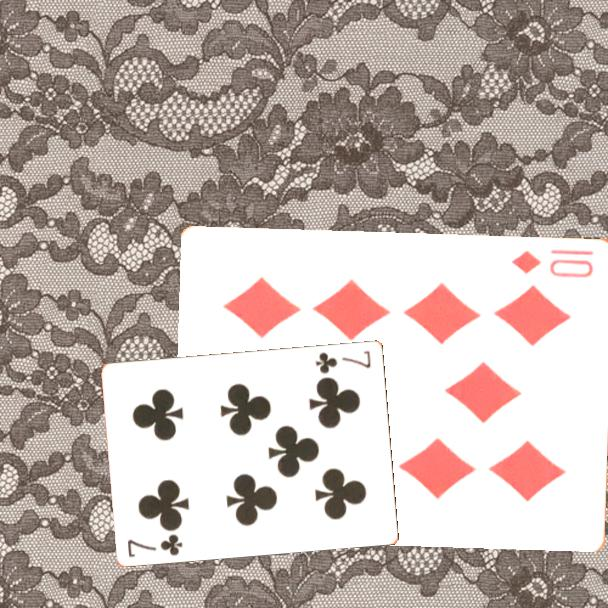c07: (124, 530, 186, 560), (312, 347, 374, 376)
d10: (509, 246, 597, 280)
